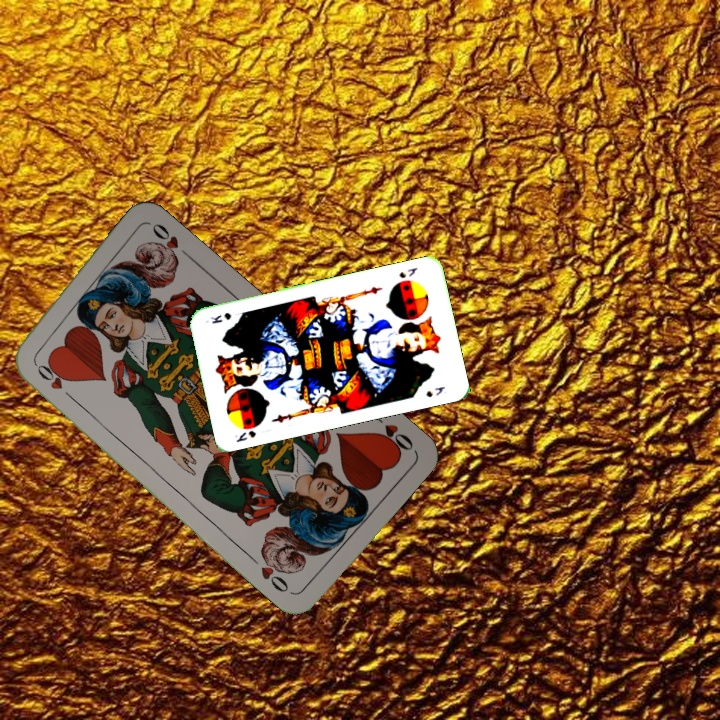HO: (368, 409, 416, 457), (30, 357, 77, 403)
SK: (231, 426, 258, 445), (395, 263, 420, 281)
